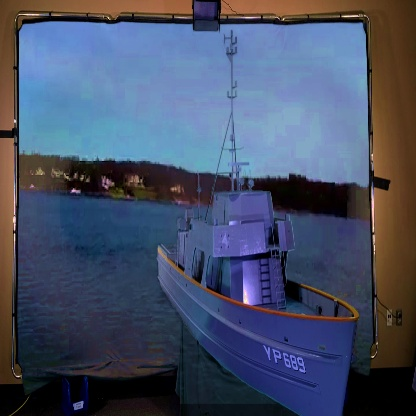YP689: (157, 33, 360, 416)
